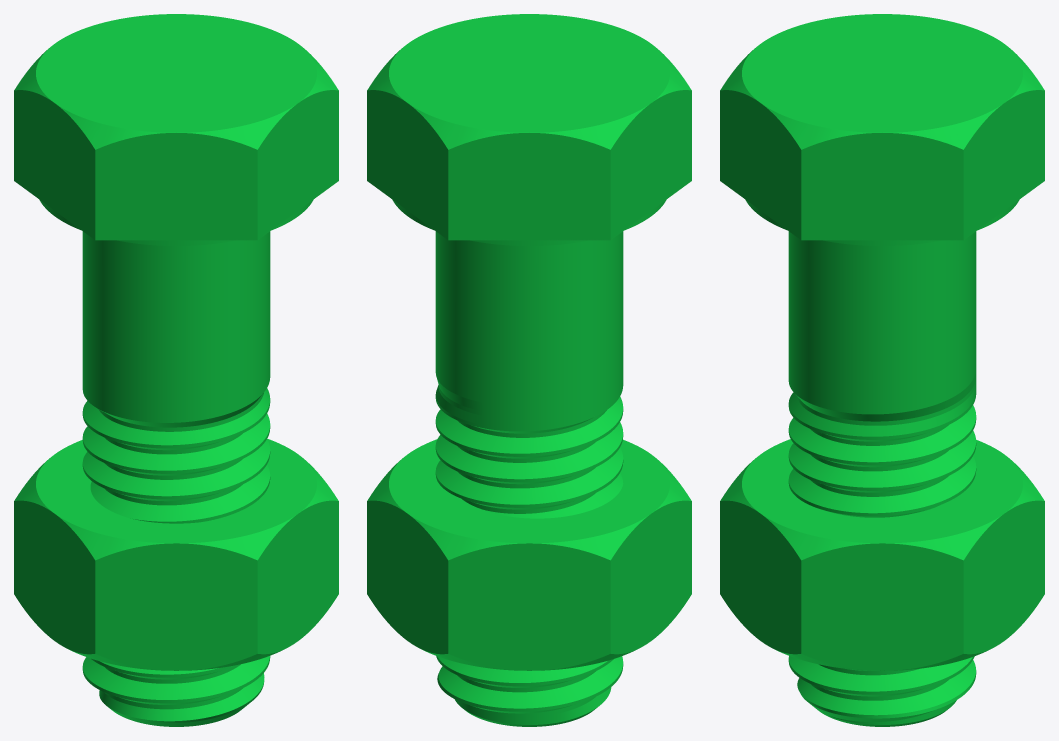
Rendered from parafusop.glb.
3 renders of one model, left to right at view 1: azimuth 30°, elevation 25°; view 2: azimuth 150°, elevation 25°; view 3: azimuth 270°, elevation 25°, orthographic.
Parts seen in each view (by area): view 1: mesh_id4, mesh_id5; view 2: mesh_id4, mesh_id5; view 3: mesh_id4, mesh_id5.
Part boxes in pixels (<box>): mesh_id4: <box>14,14,338,726</box>; mesh_id5: <box>14,438,338,670</box>; mesh_id4: <box>367,14,691,726</box>; mesh_id5: <box>367,439,691,670</box>; mesh_id4: <box>720,14,1044,726</box>; mesh_id5: <box>720,439,1044,670</box>.
Bounding box in the file's own units: 0.2095 × 0.512 × 0.2419.
Materials: 2 (2 with a texture image).
